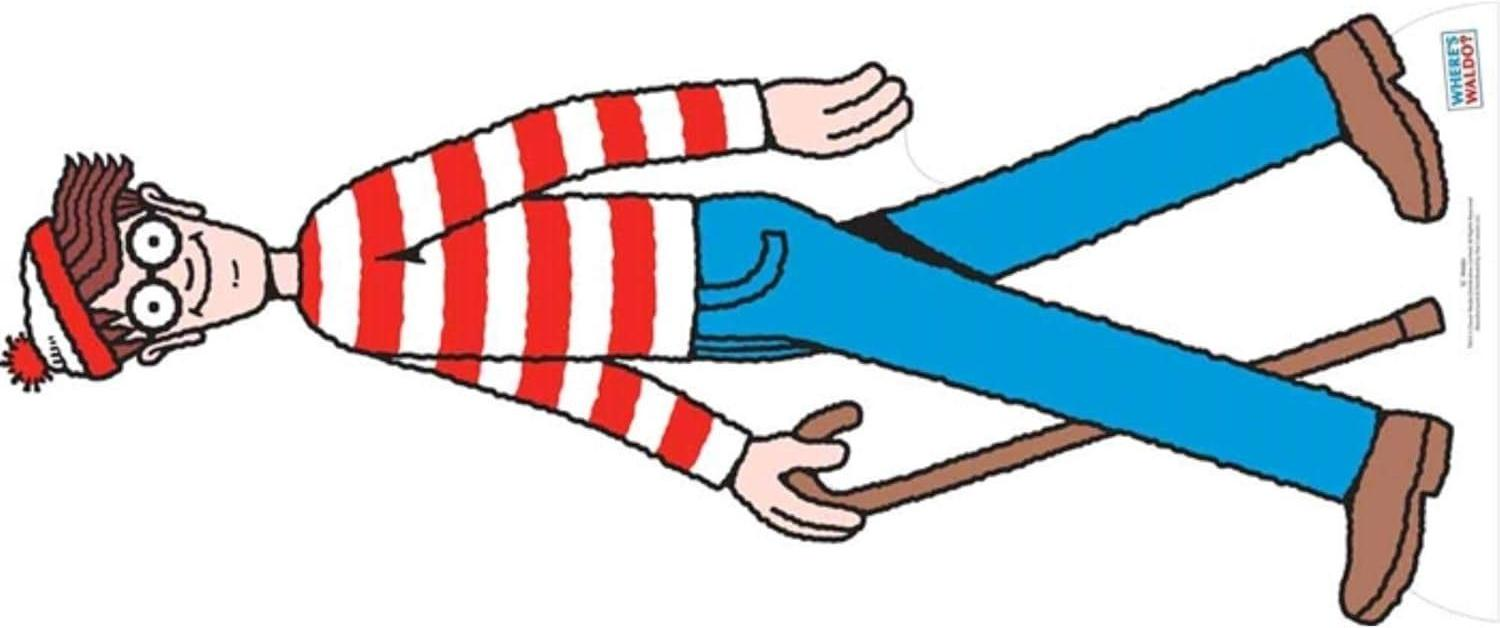waldos: (3, 11, 1453, 626)
